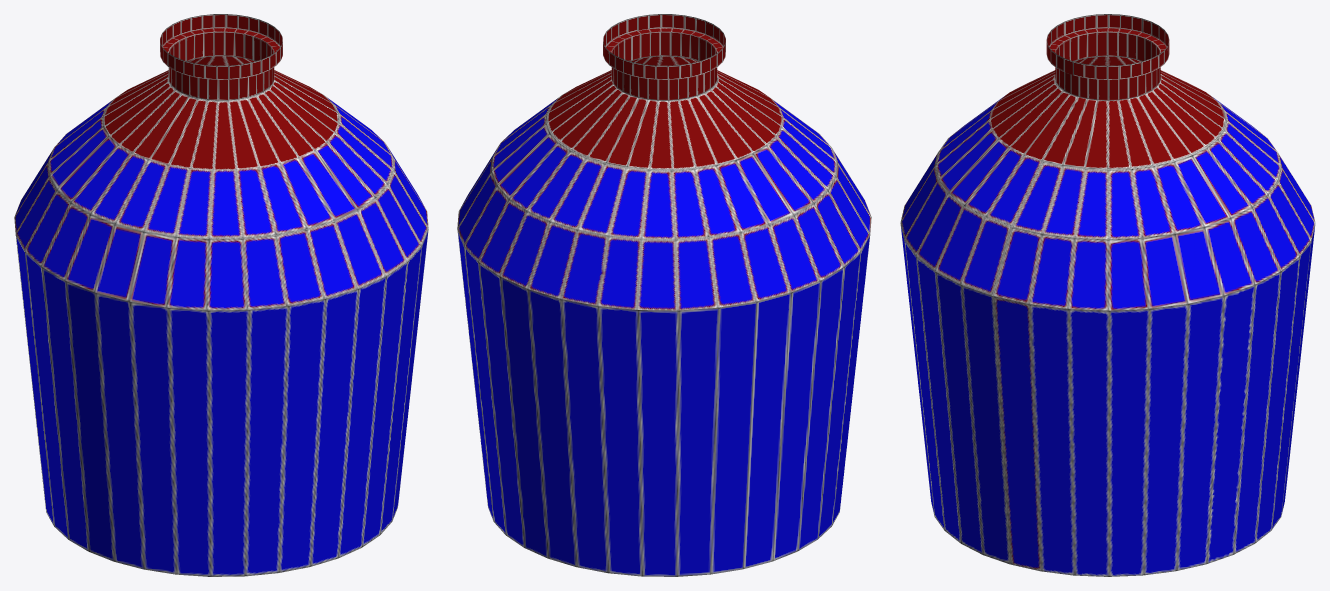
Rendered from pitcher_three.obj.
3 renders of one model, left to right at view 1: azimuth 30°, elevation 25°; view 2: azimuth 150°, elevation 25°; view 3: azimuth 270°, elevation 25°, orthographic.
Visible parts, largest first — view 1: Circle; view 2: Circle; view 3: Circle.
Part boxes in pixels (x1,y1,x2,y2): Circle: [14, 14, 428, 576]; Circle: [457, 14, 871, 576]; Circle: [900, 14, 1315, 576].
Bounding box in the file's own units: 1.65 × 2.03 × 1.65.
1 material, 1 textured.
